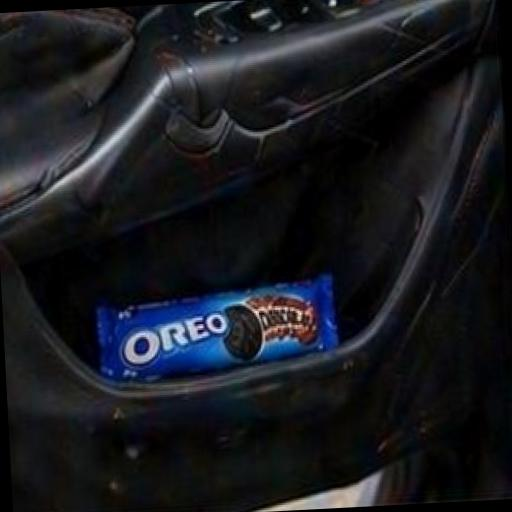oreo: (62, 208, 421, 442)
